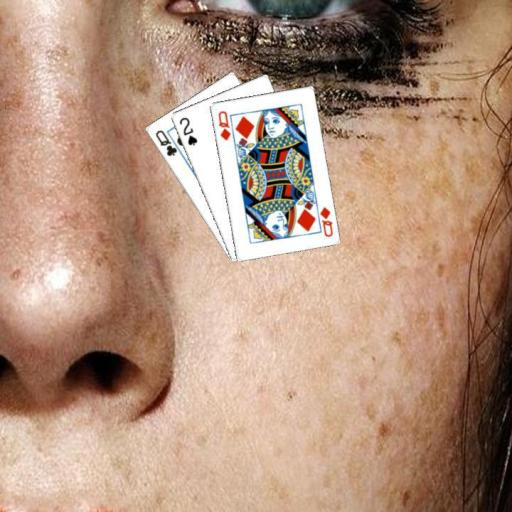2S: (176, 114, 199, 146)
QC: (152, 126, 179, 158)
QD: (317, 204, 335, 239), (215, 108, 232, 143)
